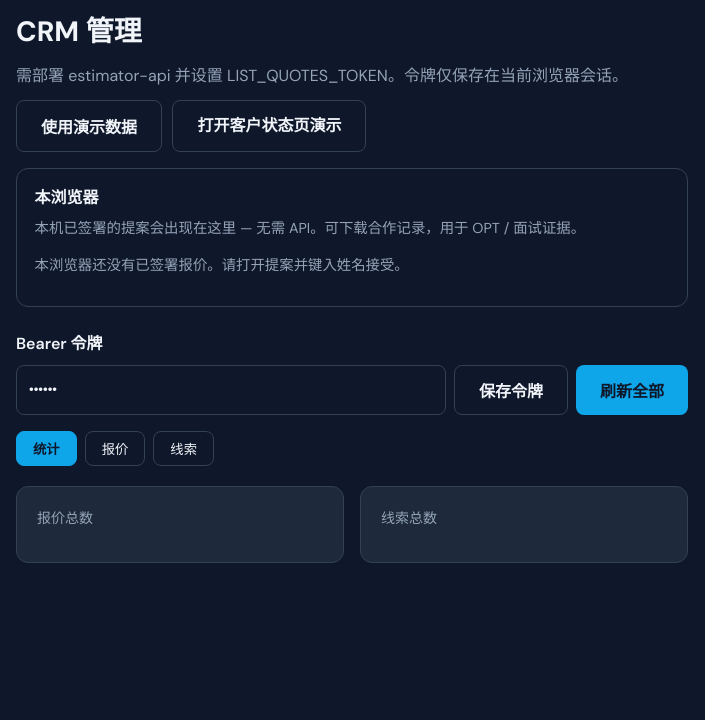
Test case: CrmAdmin › reports a failed status update
Click the tab "报价": (115, 448) [85,431,145,466]
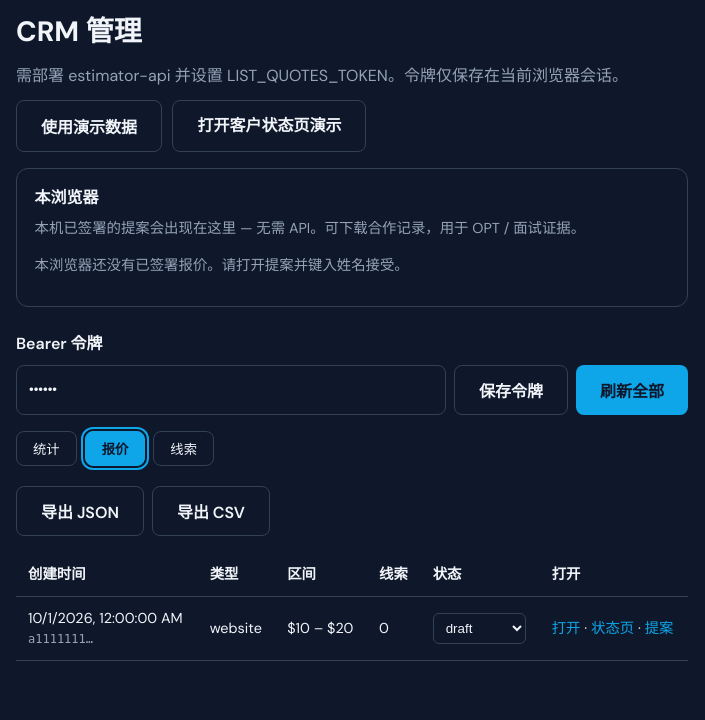
Select "declined" in the dropdown named "a1111111-1111-4111-8111-111111111111": (479, 629) [433,614,526,644]
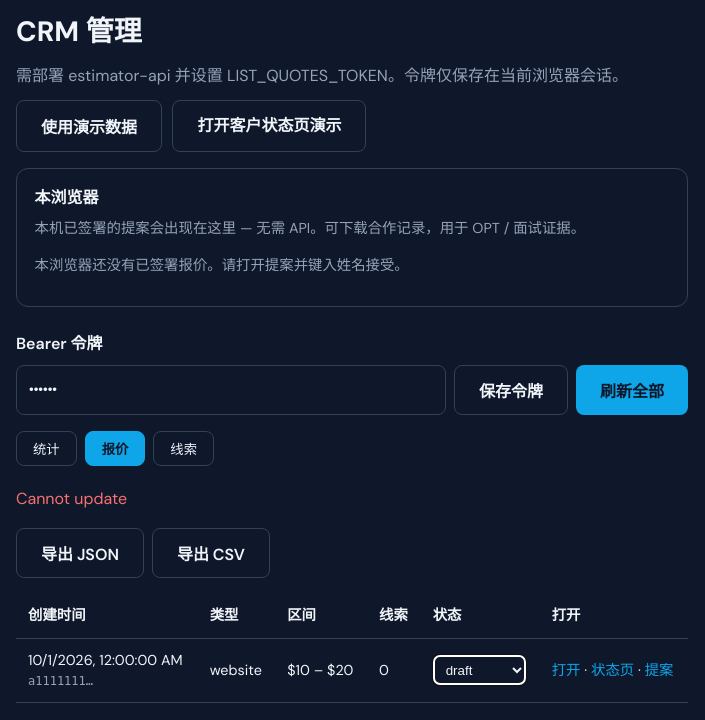
Expected: the message reads "Cannot update", [16,488,127,509]
